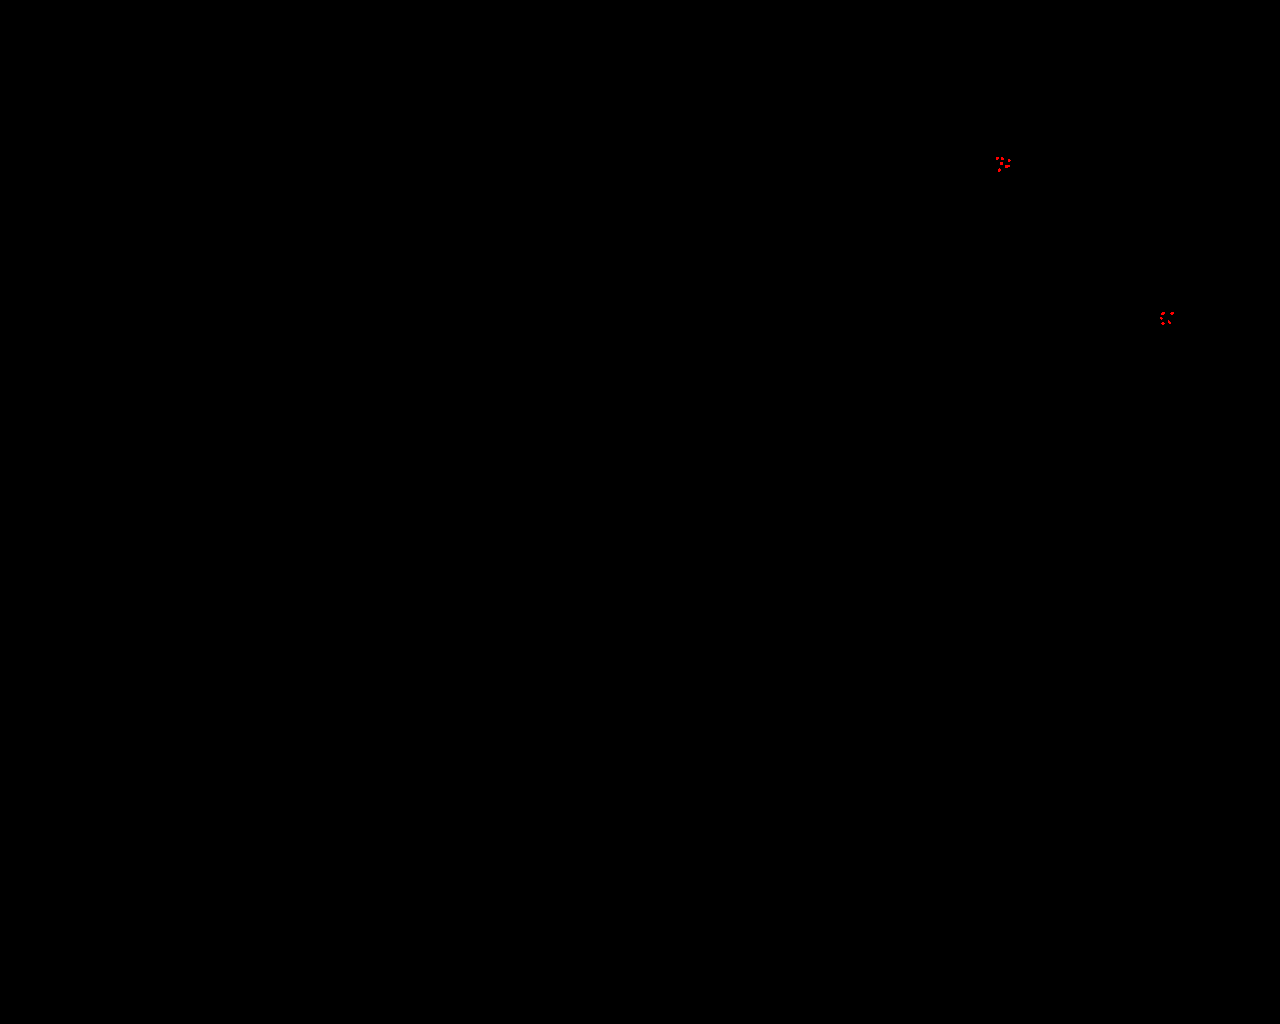Target: (1005, 165, 1010, 168), (998, 168, 1001, 172), (1168, 320, 1171, 324), (1161, 322, 1165, 325), (996, 157, 999, 160), (1001, 157, 1004, 160), (1008, 159, 1011, 162), (1000, 162, 1003, 165), (1160, 317, 1163, 320), (1161, 312, 1165, 315), (1170, 312, 1174, 315)
